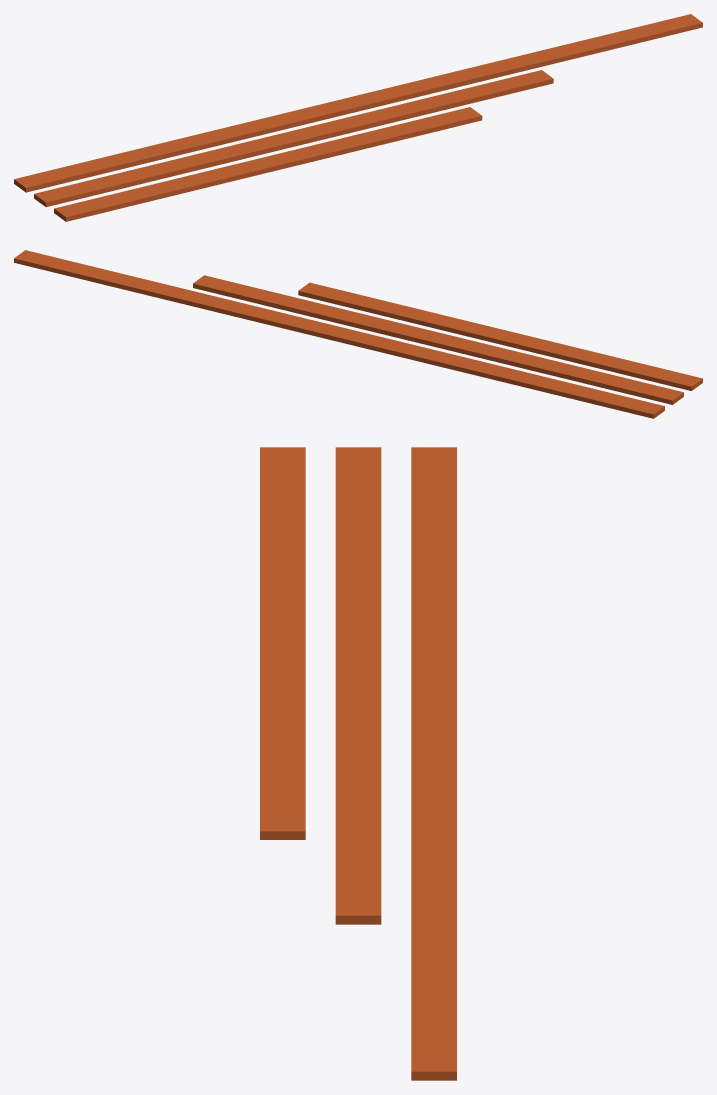
Rendered from deck-board-150x32_itauba-oro_v0.1.dae.
3 renders of one model, top to bottom at view 1: azimuth 30°, elevation 25°; view 2: azimuth 150°, elevation 25°; view 3: azimuth 270°, elevation 25°, orthographic. The views are drawn at different scales.
Visible parts, largest first — view 1: IB-225931_deck-board-150x32_itauba-oro_4880mm, IB-225921_deck-board-150x32_itauba-oro_3660mm, IB-272447_deck-board-150x32_itauba-oro_3000mm; view 2: IB-225931_deck-board-150x32_itauba-oro_4880mm, IB-225921_deck-board-150x32_itauba-oro_3660mm, IB-272447_deck-board-150x32_itauba-oro_3000mm; view 3: IB-225931_deck-board-150x32_itauba-oro_4880mm, IB-225921_deck-board-150x32_itauba-oro_3660mm, IB-272447_deck-board-150x32_itauba-oro_3000mm.
Part boxes in pixels (left/top/right/bottom): IB-225931_deck-board-150x32_itauba-oro_4880mm: left=14, top=14, right=702, bottom=192; IB-225921_deck-board-150x32_itauba-oro_3660mm: left=34, top=70, right=553, bottom=207; IB-272447_deck-board-150x32_itauba-oro_3000mm: left=54, top=107, right=482, bottom=221; IB-225931_deck-board-150x32_itauba-oro_4880mm: left=14, top=250, right=664, bottom=418; IB-225921_deck-board-150x32_itauba-oro_3660mm: left=193, top=275, right=683, bottom=404; IB-272447_deck-board-150x32_itauba-oro_3000mm: left=298, top=282, right=702, bottom=390; IB-225931_deck-board-150x32_itauba-oro_4880mm: left=411, top=447, right=456, bottom=1080; IB-225921_deck-board-150x32_itauba-oro_3660mm: left=335, top=447, right=381, bottom=924; IB-272447_deck-board-150x32_itauba-oro_3000mm: left=260, top=447, right=305, bottom=839.
Size of the model in its own units: 4880 by 650 by 32.
